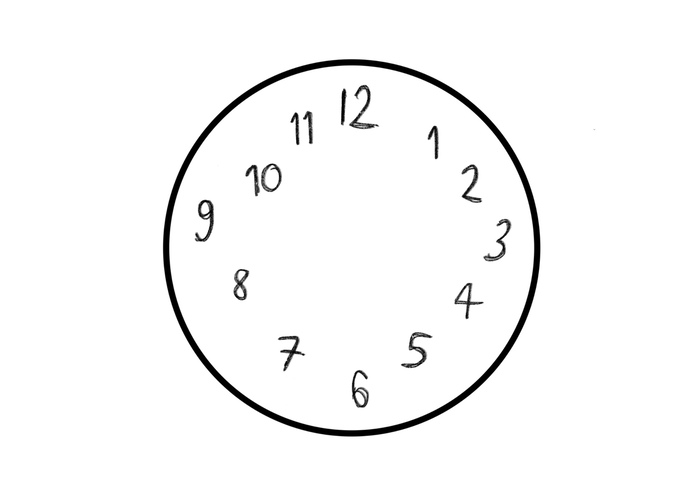eight: (227, 265, 255, 305)
eleven: (283, 108, 321, 148)
five: (400, 327, 433, 370)
four: (449, 280, 485, 323)
nine: (191, 196, 218, 246)
one: (425, 121, 443, 163)
seven: (270, 332, 306, 371)
six: (347, 368, 374, 409)
ten: (242, 159, 286, 198)
three: (480, 215, 512, 264)
twelve: (335, 83, 379, 135)
two: (457, 159, 484, 205)
